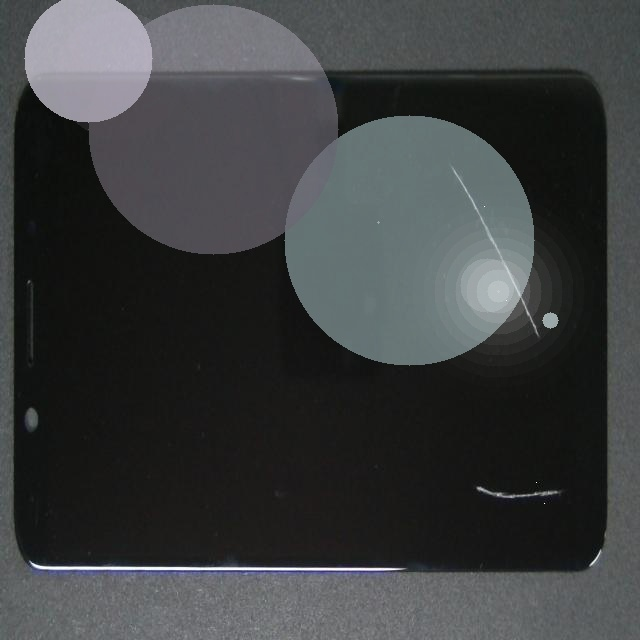scratch: (186, 253, 640, 640), (168, 0, 640, 341)
